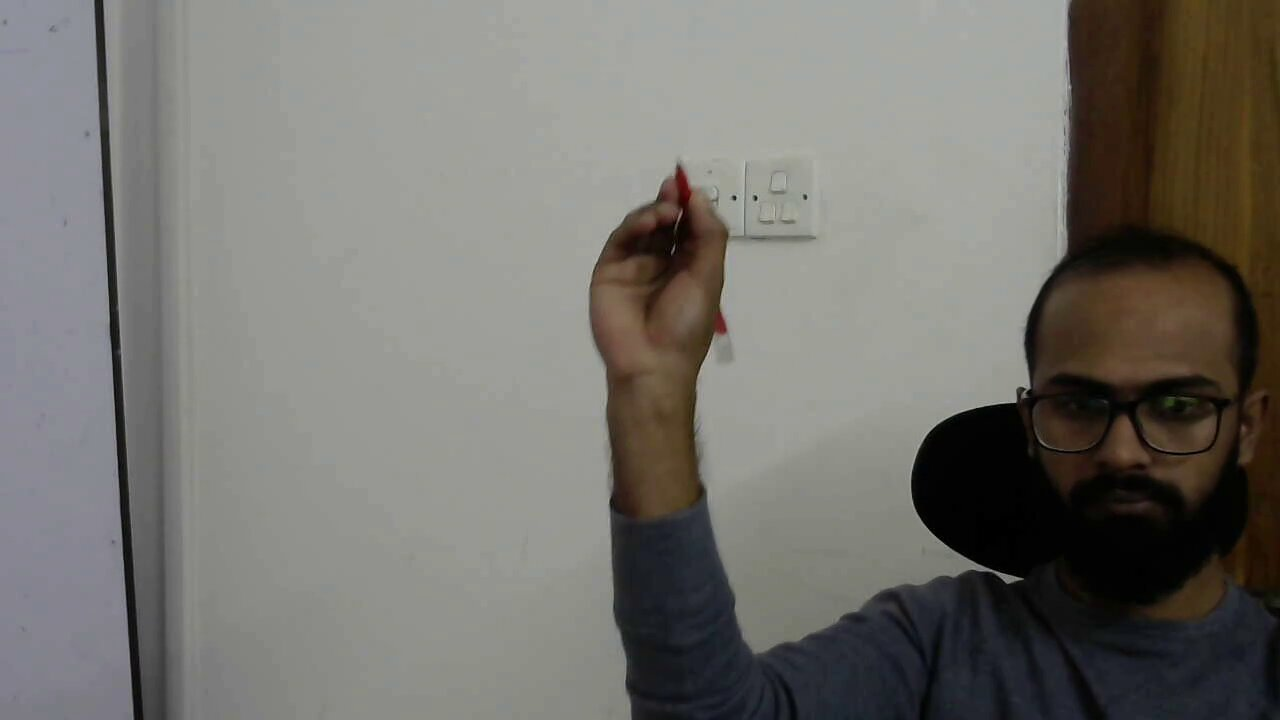pointer: (604, 175, 728, 324)
